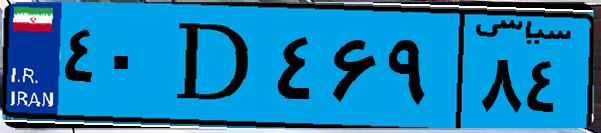0: (110, 28, 158, 98)
4: (270, 28, 330, 110), (57, 26, 110, 100), (525, 38, 570, 115)
6: (330, 28, 385, 110)
8: (475, 38, 525, 113)
9: (385, 28, 445, 110)
D: (158, 12, 270, 120)
